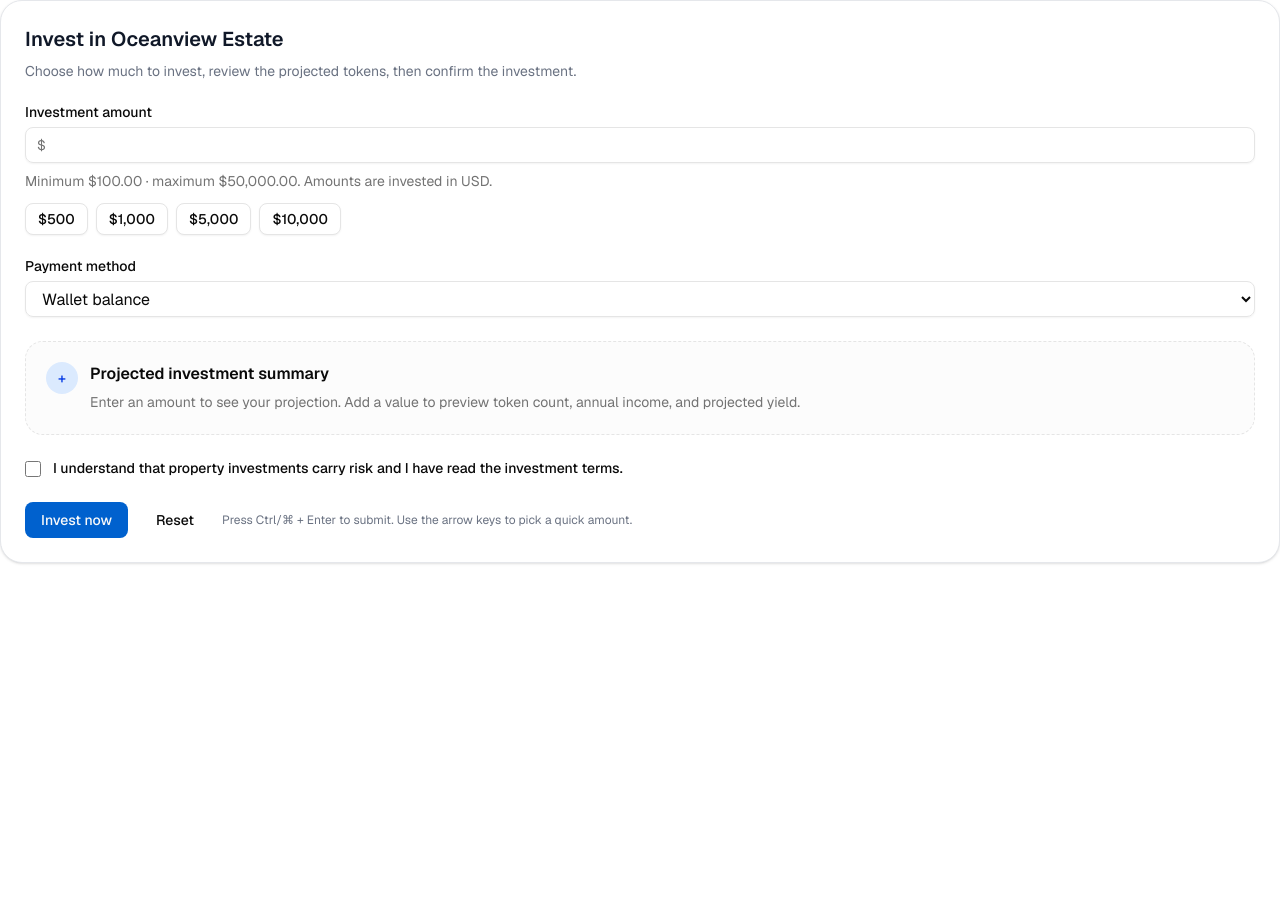
InvestmentForm › reports submission failures without losing the entered values
In the number field labelled "Investment amount": (640, 145) x1=25 y1=127 x2=1255 y2=163, type "500"
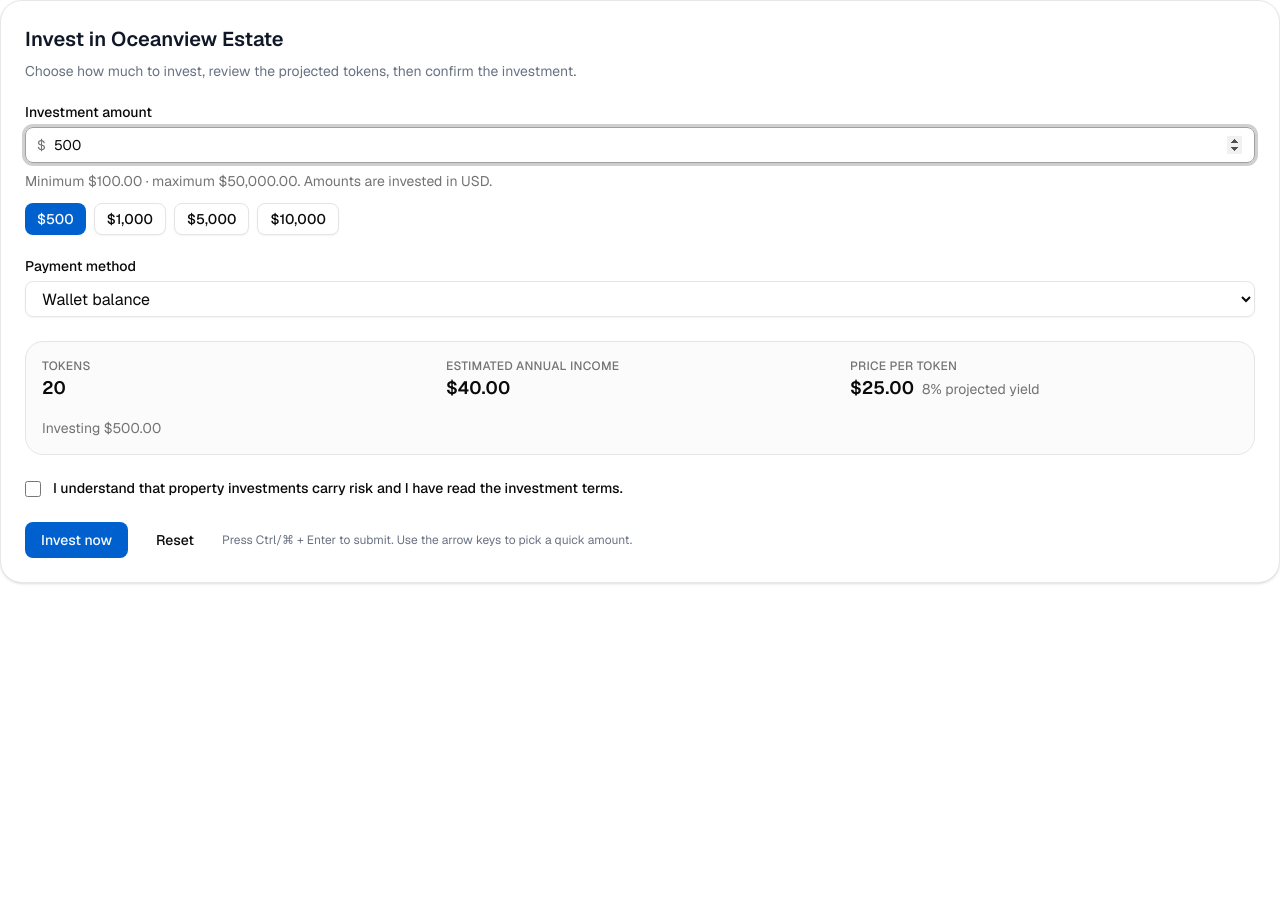
Click the checkbox: (33, 489) x1=25 y1=481 x2=41 y2=497
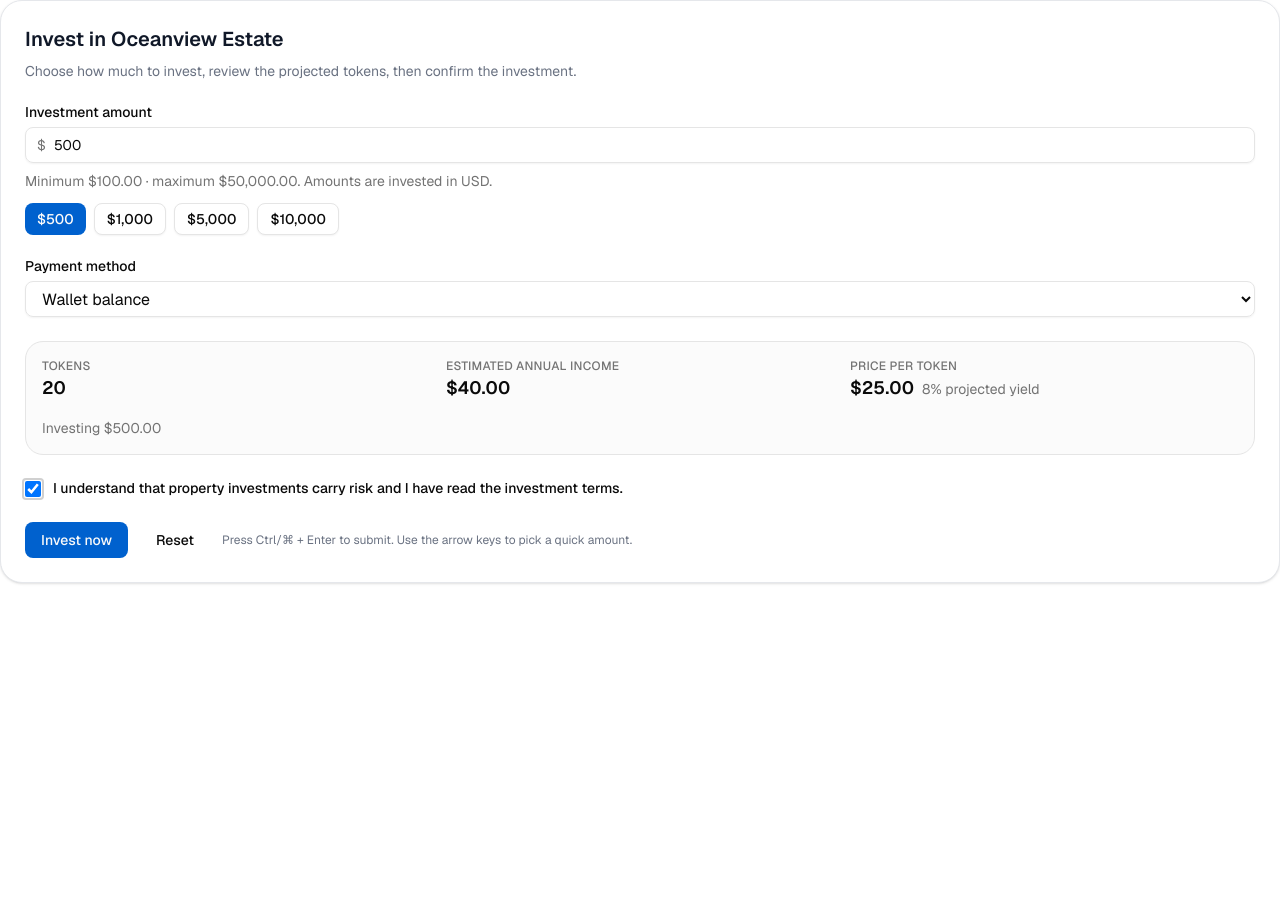
Click the button "Invest now": (76, 540) x1=25 y1=522 x2=128 y2=558
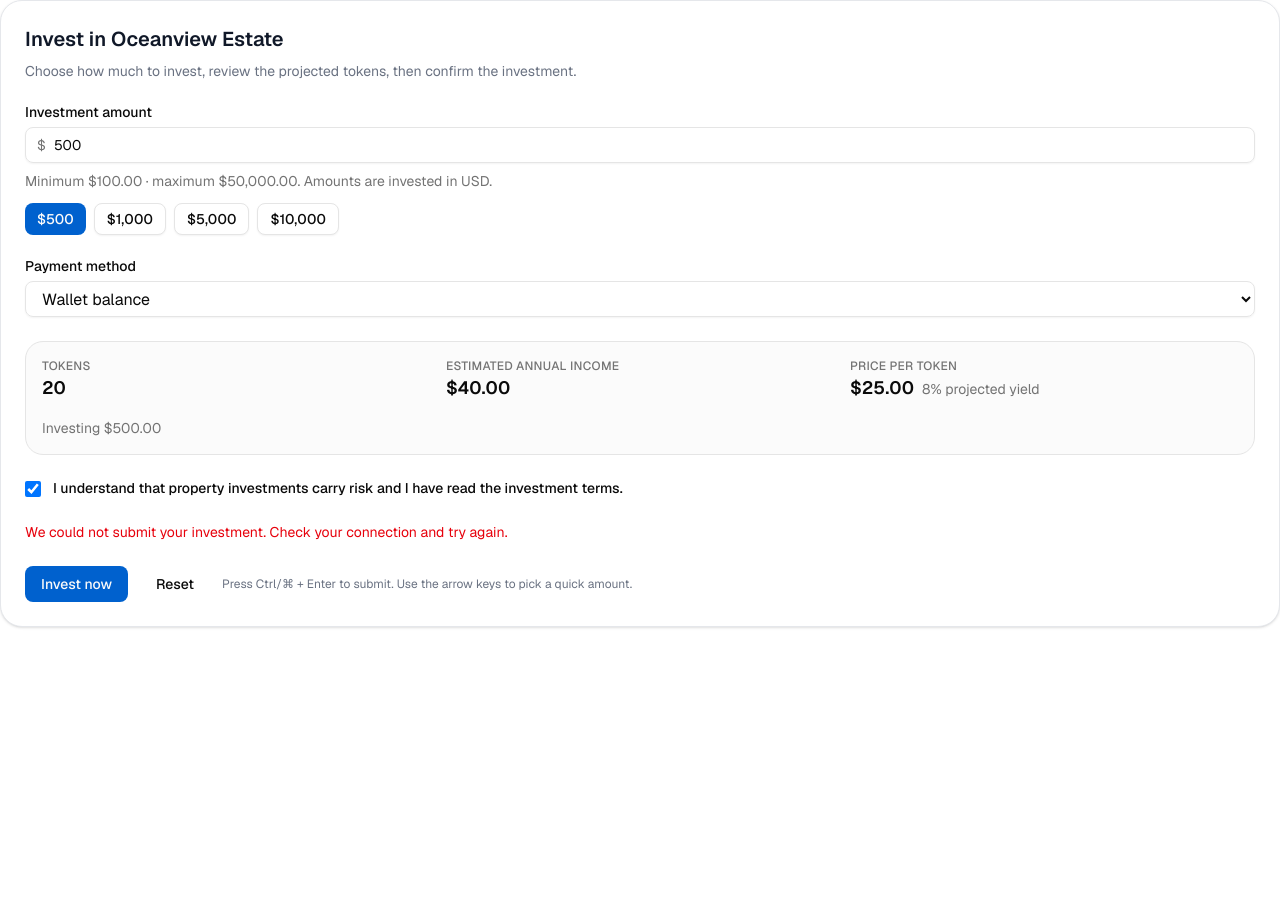
Expected: the text "We could not submit your investment. Check your connection and try again." is shown, x1=25 y1=523 x2=508 y2=541
